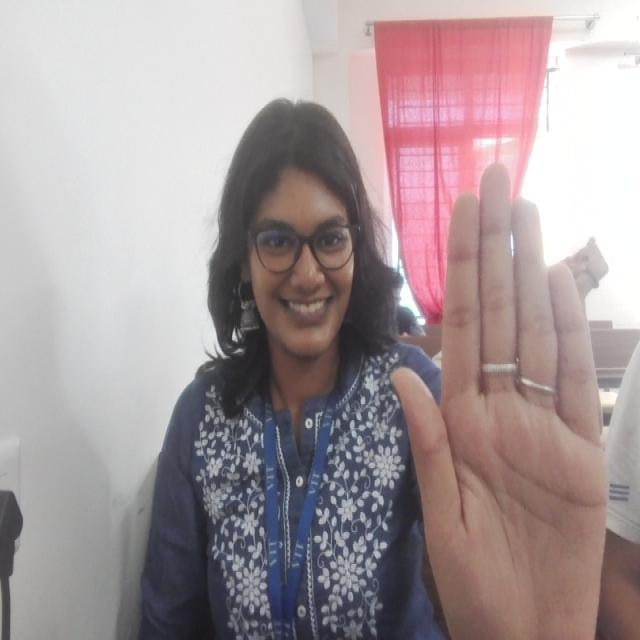hello: (390, 159, 614, 640)
